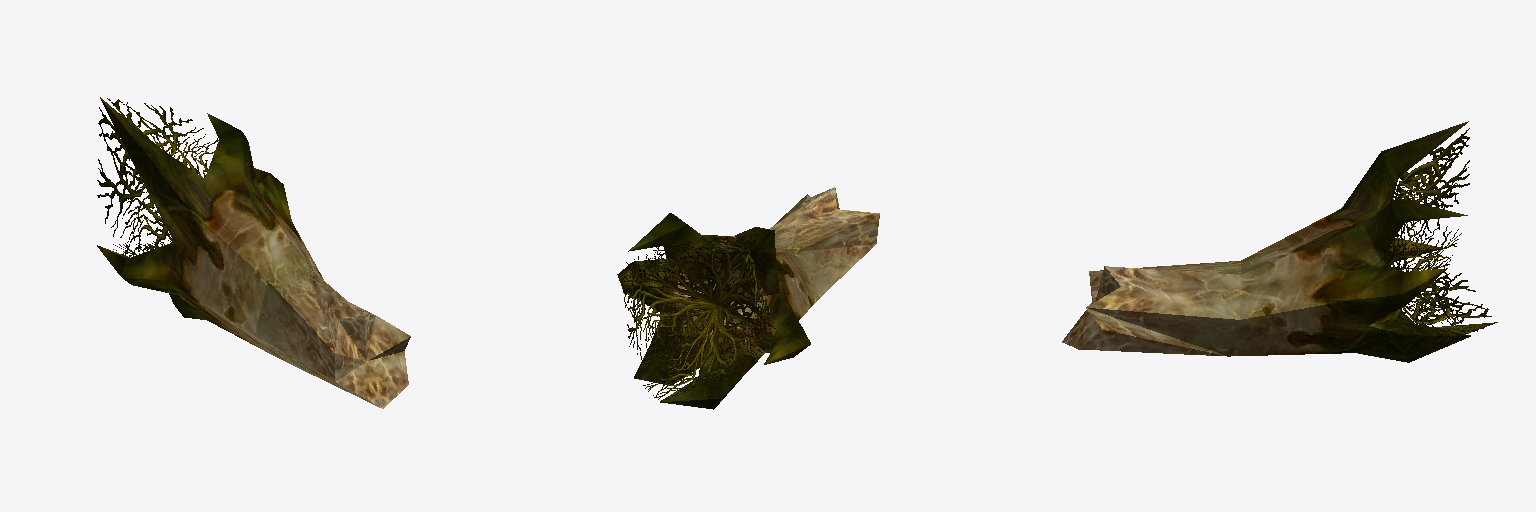
3 views of the same model, side by side, from view 1: azimuth 30°, elevation 25°; view 2: azimuth 150°, elevation 25°; view 3: azimuth 270°, elevation 25° (orthographic).
Parts seen in each view (by area): view 1: SwampTreeLog01; view 2: SwampTreeLog01; view 3: SwampTreeLog01.
Boxes of the visible parts, <box> form: SwampTreeLog01: <box>97,97,410,408</box>; SwampTreeLog01: <box>617,187,879,409</box>; SwampTreeLog01: <box>1062,121,1497,362</box>.
Size of the model in its own units: 10.02 by 11.31 by 21.25.
Materials: 2 (2 with a texture image).